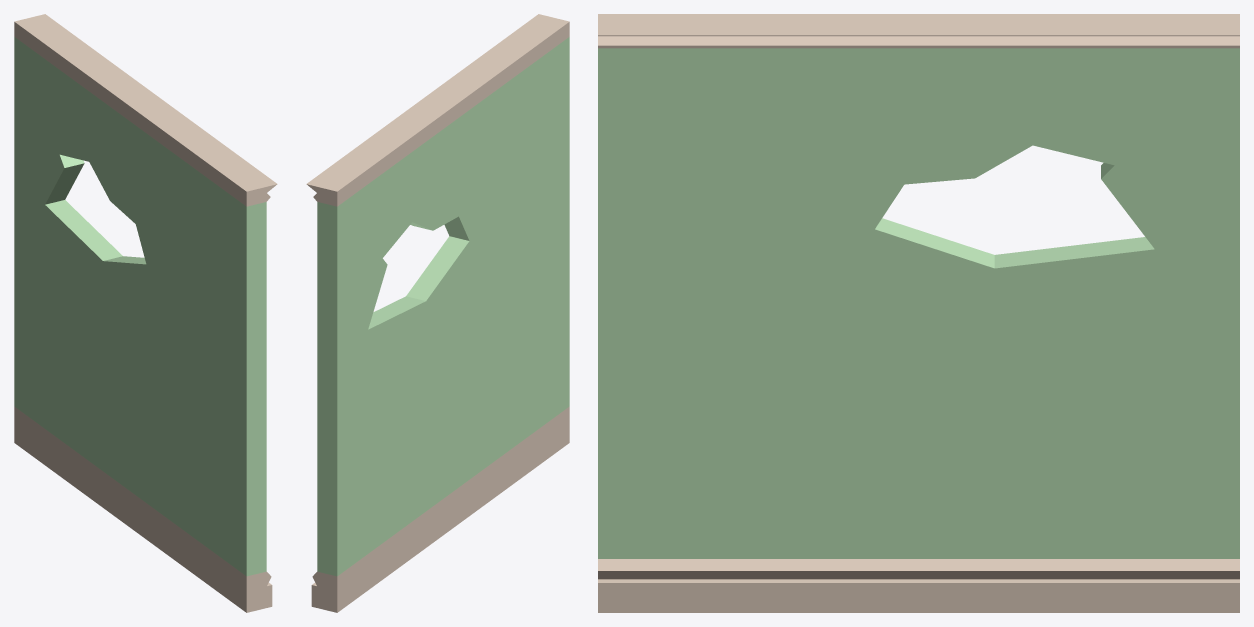
Rendered from Wall_SmallHole2.fbx.
3 views of the same model, side by side, from view 1: azimuth 30°, elevation 25°; view 2: azimuth 150°, elevation 25°; view 3: azimuth 270°, elevation 25° (orthographic). The views are drawn at different scales.
Visible parts, largest first — view 1: Cube; view 2: Cube; view 3: Cube.
Boxes of the visible parts, <box> form: Cube: <box>14,14,277,612</box>; Cube: <box>306,14,569,612</box>; Cube: <box>598,14,1239,612</box>.
Size of the model in its own units: 61.8 by 800 by 800.
